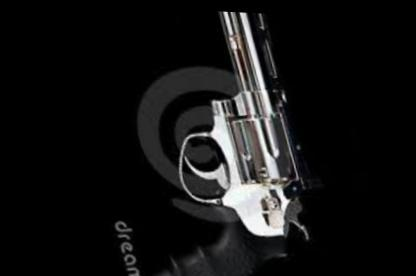pistol: (78, 3, 342, 273)
